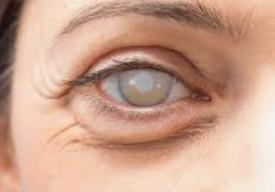eye: (117, 66, 173, 107)
